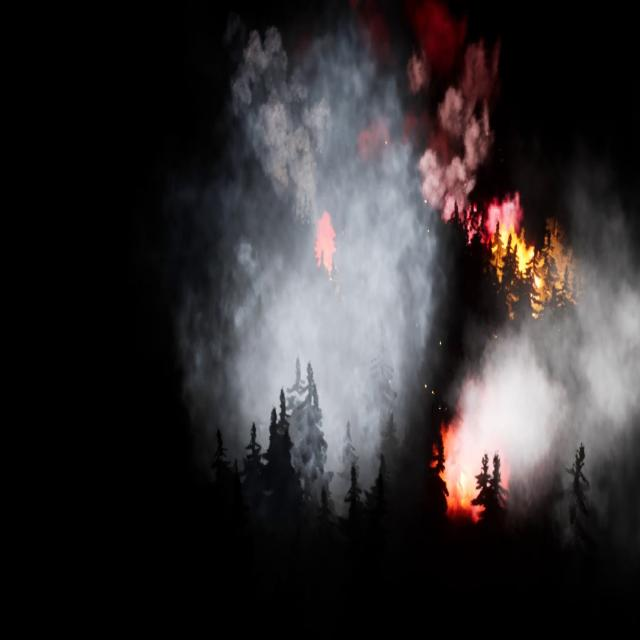fire: (490, 214, 554, 306)
smoke: (178, 0, 639, 562)
